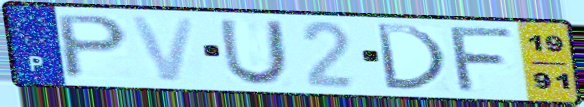2: (298, 19, 358, 90)
D: (372, 21, 451, 93)
F: (448, 26, 519, 94)
P: (54, 13, 132, 81)
U: (216, 18, 291, 87)
V: (126, 14, 200, 84)
